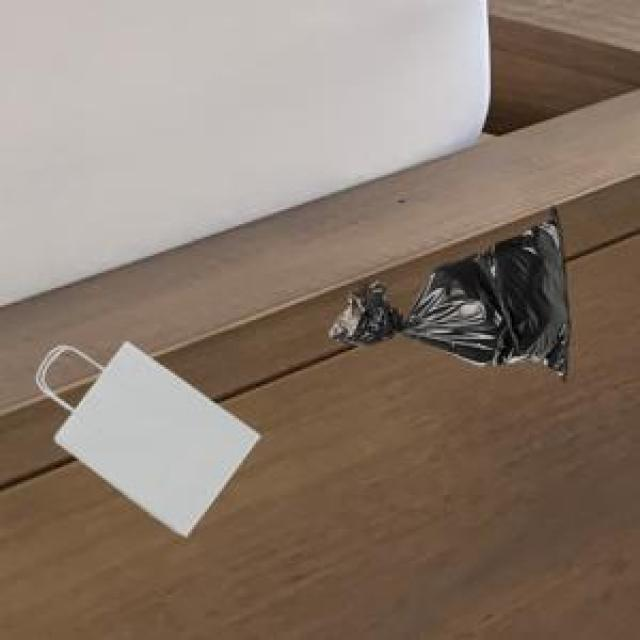miscellaneous trash: (326, 203, 565, 378)
paper: (38, 337, 256, 533)
